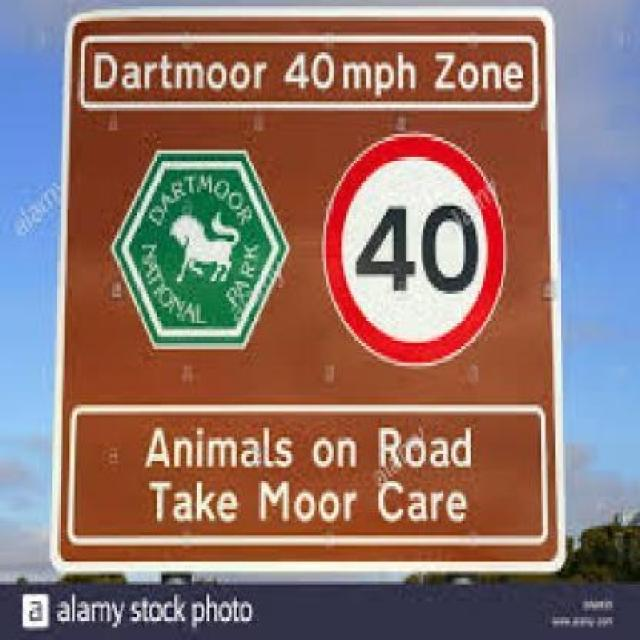forb_speed_over_40: (329, 137, 497, 358)
